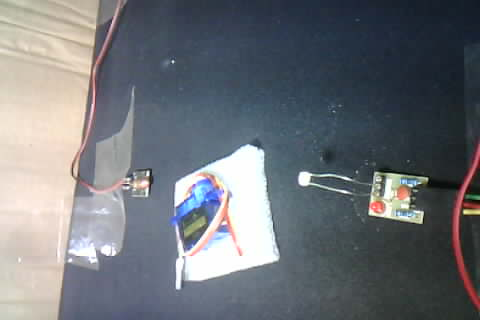motor: (152, 156, 253, 281)
